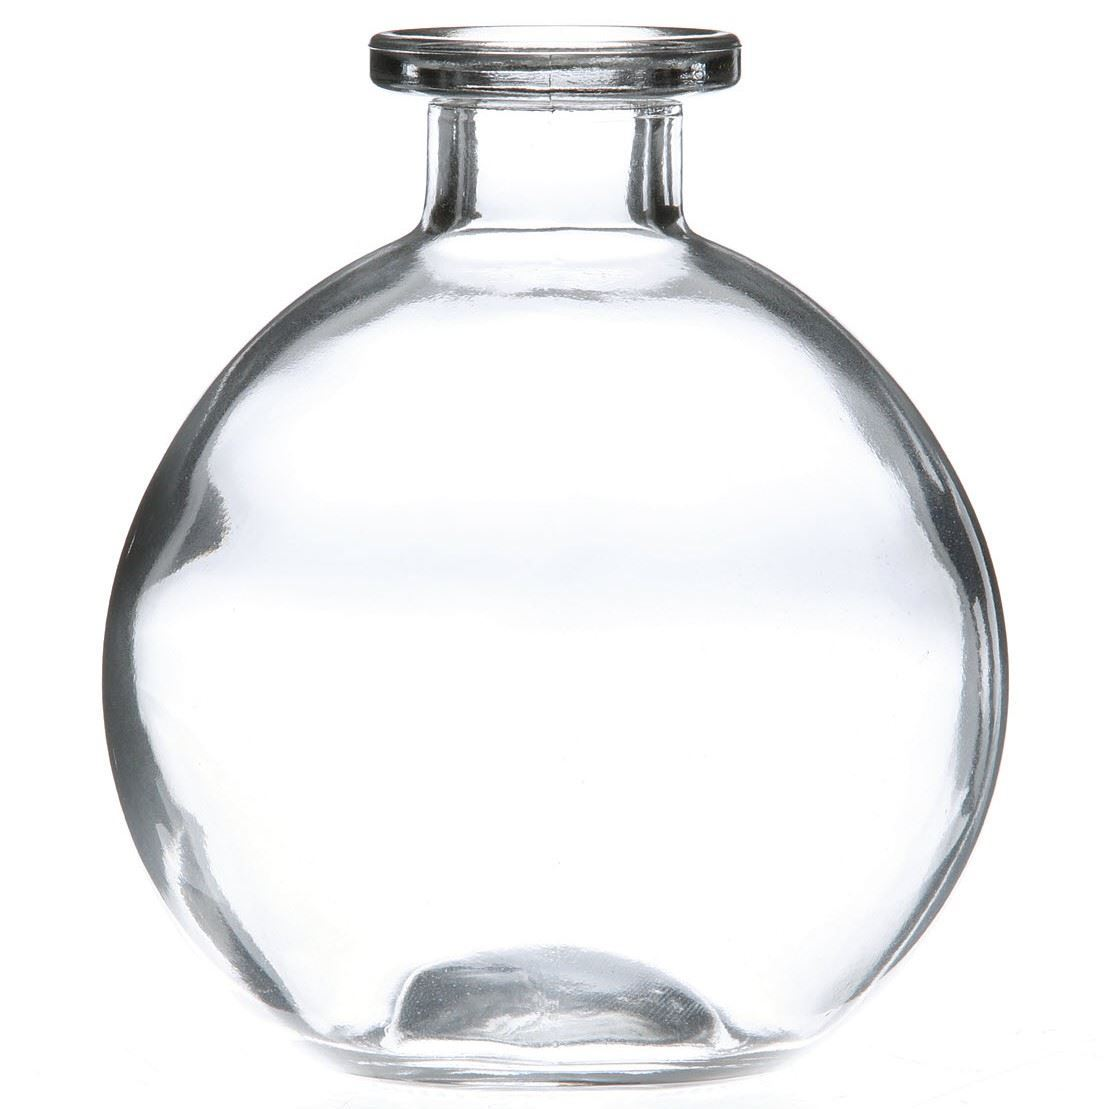glass_bottleww: (47, 1, 1032, 1104)
